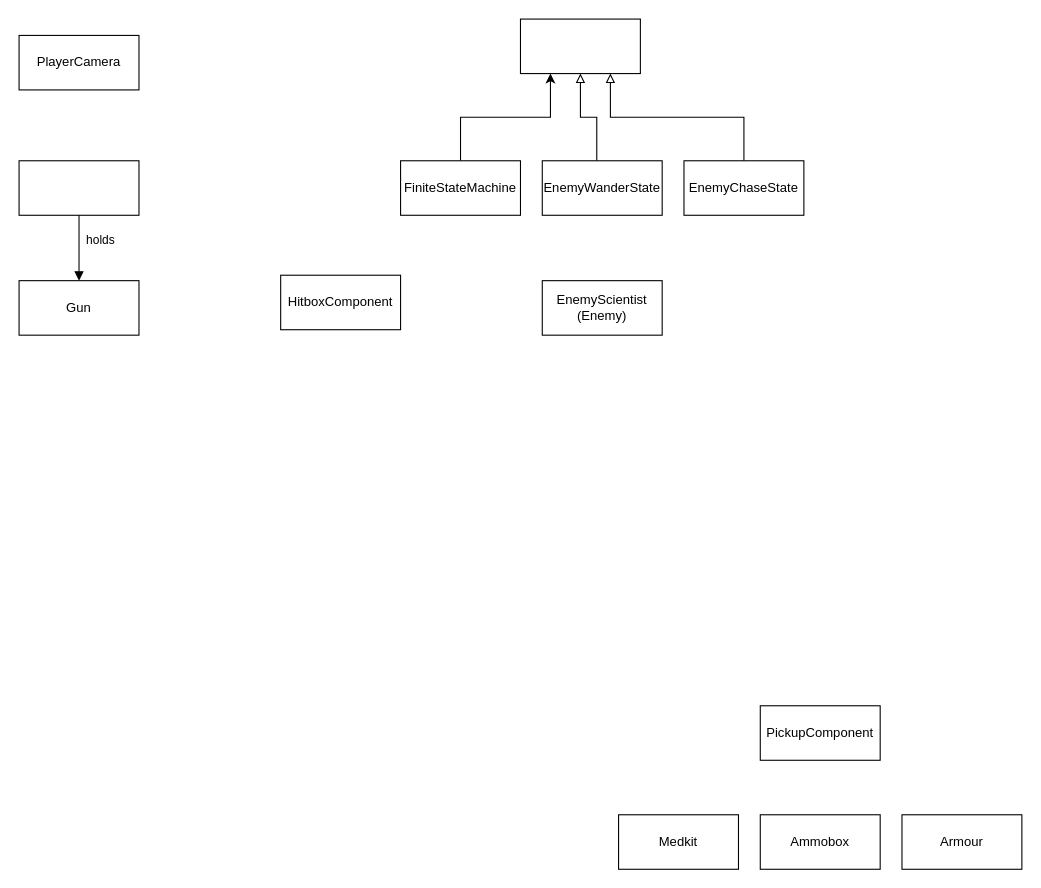
Image size: 1041x888. Some labels were removed from this diagram. Each missing label, with the centre of its shape:
"Player" belongs at point (78, 187).
"State" belongs at point (579, 46).
